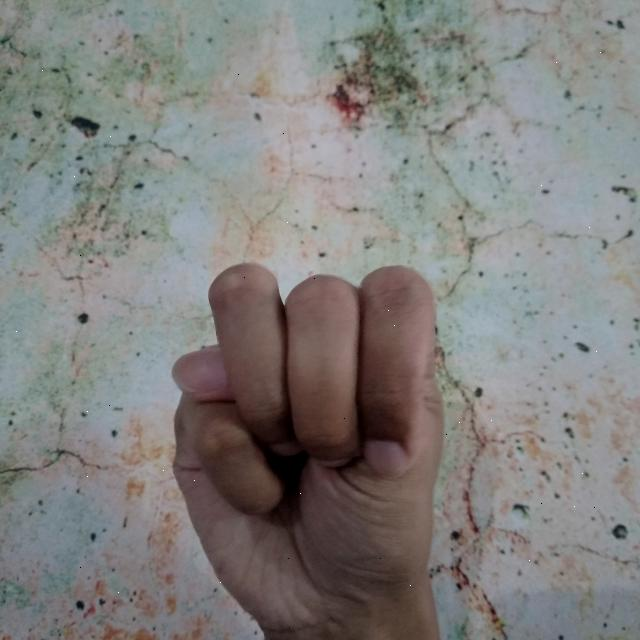M: (158, 244, 470, 640)
